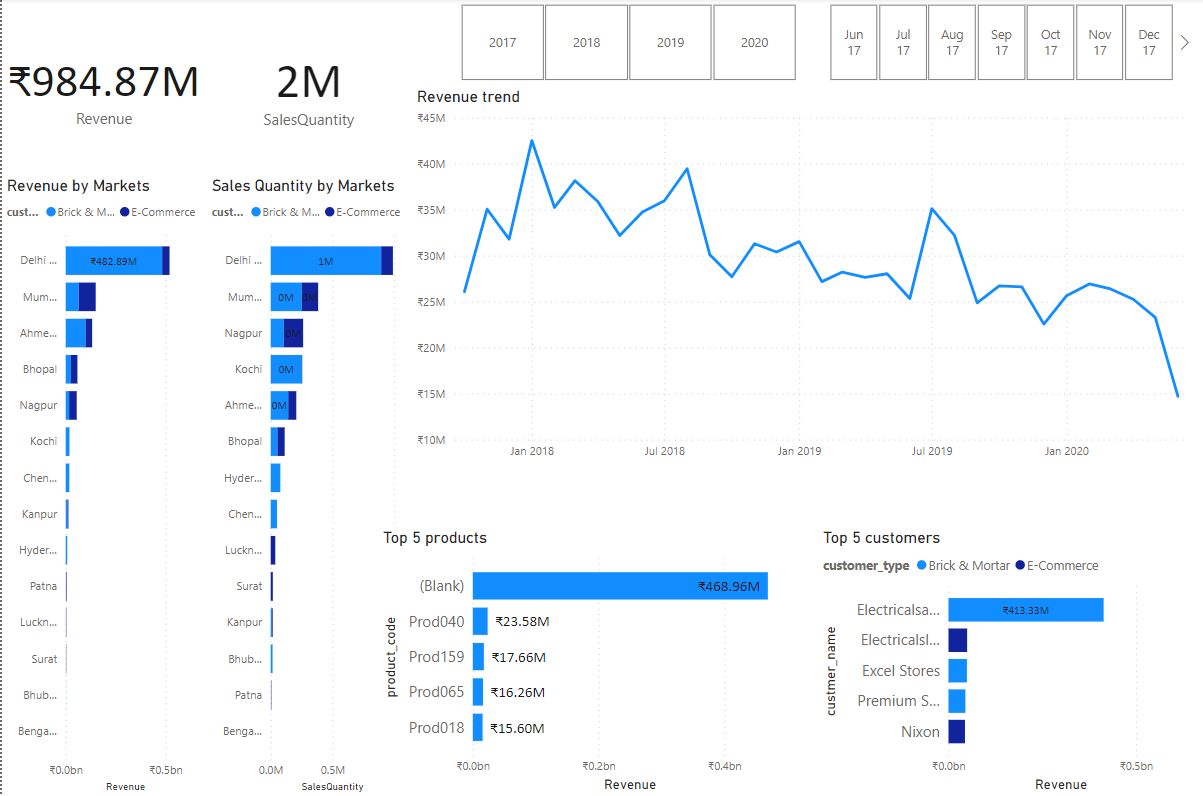

This screenshot's page, from the dashboard's own definition file:
{"tool":"powerbi","page":{"name":"Key Insights","canvas":[1280,850],"ordinal":0},"visuals":[{"type":"card","fields":{"Values":["BaseMeasures.Revenue"]},"box":[0,0,218,189],"z":0},{"type":"card","fields":{"Values":["BaseMeasures.SalesQuantity"]},"box":[218.6,0,217.1,188.6],"z":1000},{"type":"barChart","title":"Revenue by Markets","fields":{"Y":["BaseMeasures.Revenue"],"Category":["sales markets.markets_name"],"Series":["sales customers.customer_type"]},"box":[0,188.6,218.6,661.4],"z":2000},{"type":"barChart","title":"Sales Quantity by Markets","fields":{"Y":["BaseMeasures.SalesQuantity"],"Category":["sales markets.markets_name"],"Series":["sales customers.customer_type"]},"box":[218.6,188.6,218.6,661.4],"z":3000},{"type":"slicer","fields":{"Values":["sales date.year"]},"box":[462.9,0,405.7,94.3],"z":4000},{"type":"slicer","fields":{"Values":["sales date.cy_date"]},"box":[855.7,0,414.3,94.3],"z":5000},{"type":"barChart","title":"Top 5 customers ","fields":{"Y":["BaseMeasures.Revenue"],"Category":["sales customers.custmer_name"],"Series":["sales customers.customer_type"]},"box":[868.6,564.3,401.4,285.7],"z":6000},{"type":"barChart","title":"Top 5 products","fields":{"Y":["BaseMeasures.Revenue"],"Category":["sales products.product_code"]},"box":[400,564.3,458.6,285.7],"z":7000},{"type":"lineChart","title":"Revenue trend","fields":{"Y":["BaseMeasures.Revenue"],"Category":["sales date.cy_date"]},"box":[435.7,94.3,844.3,405.7],"z":8000}]}

Visuals, with their boxes in screenshot pixels (x1, y1, x2, y2), scaled from the page's 1280x850 canvas onto the 1203x796 screenshot:
card - BaseMeasures.Revenue: BBox(0, 0, 205, 177)
card - BaseMeasures.SalesQuantity: BBox(205, 0, 409, 177)
"Revenue by Markets" barChart: BBox(0, 177, 205, 795)
"Sales Quantity by Markets" barChart: BBox(205, 177, 411, 795)
slicer - sales date.year: BBox(435, 0, 816, 88)
slicer - sales date.cy_date: BBox(804, 0, 1194, 88)
"Top 5 customers " barChart: BBox(816, 528, 1194, 795)
"Top 5 products" barChart: BBox(376, 528, 807, 795)
"Revenue trend" lineChart: BBox(409, 88, 1202, 468)
